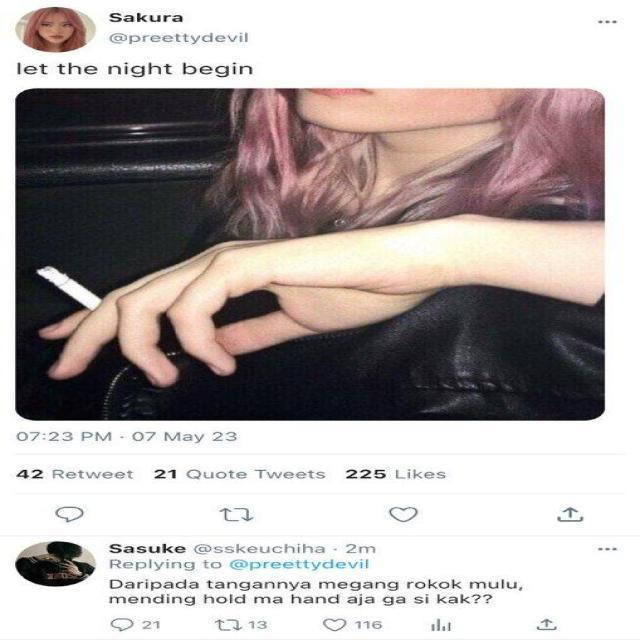rokok: (36, 260, 104, 310)
